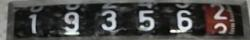digits: (136, 9, 155, 31), (175, 9, 193, 31), (62, 11, 79, 32), (101, 10, 117, 30), (212, 3, 228, 20), (28, 13, 38, 36)
